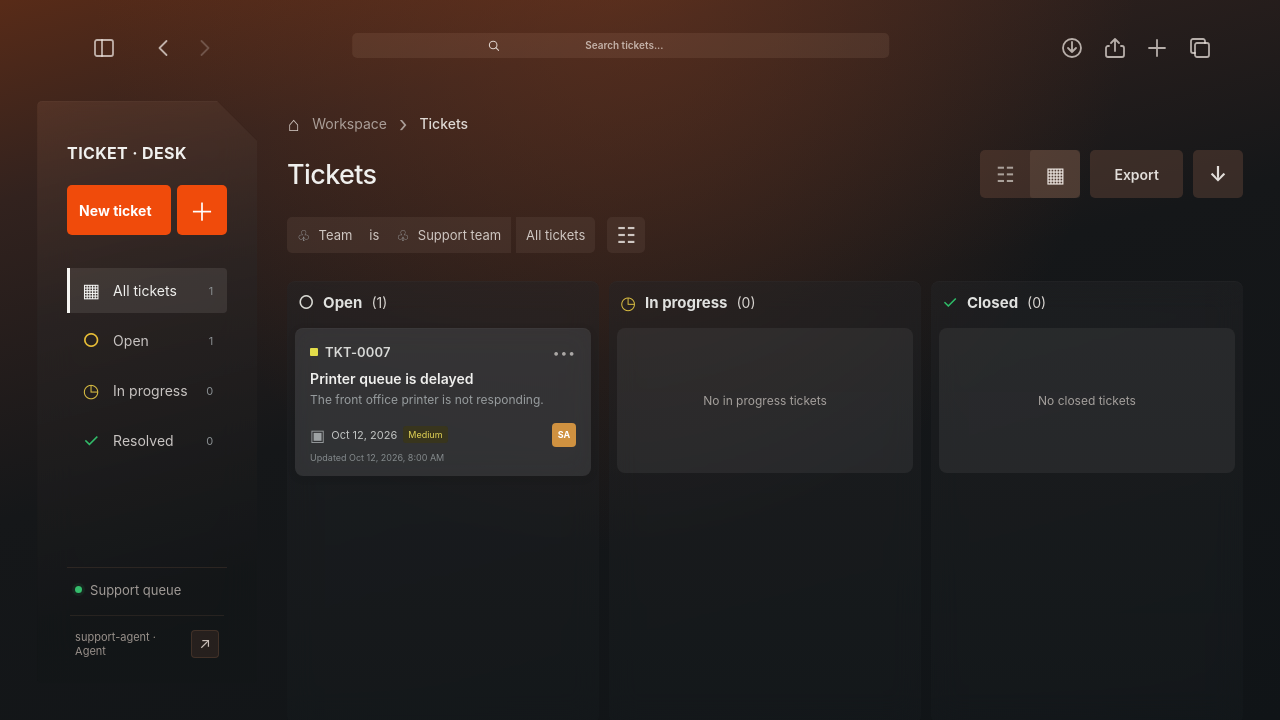
Test: Ticket Desk UI workflow › creates a ticket and signs out back to the login screen
The image size is (1280, 720).
expect the heading "Printer queue is delayed" is shown: met, box x1=310 y1=370 x2=474 y2=387
Click the button "New ticket" at (119, 210), box x1=67 y1=185 x2=171 y2=235
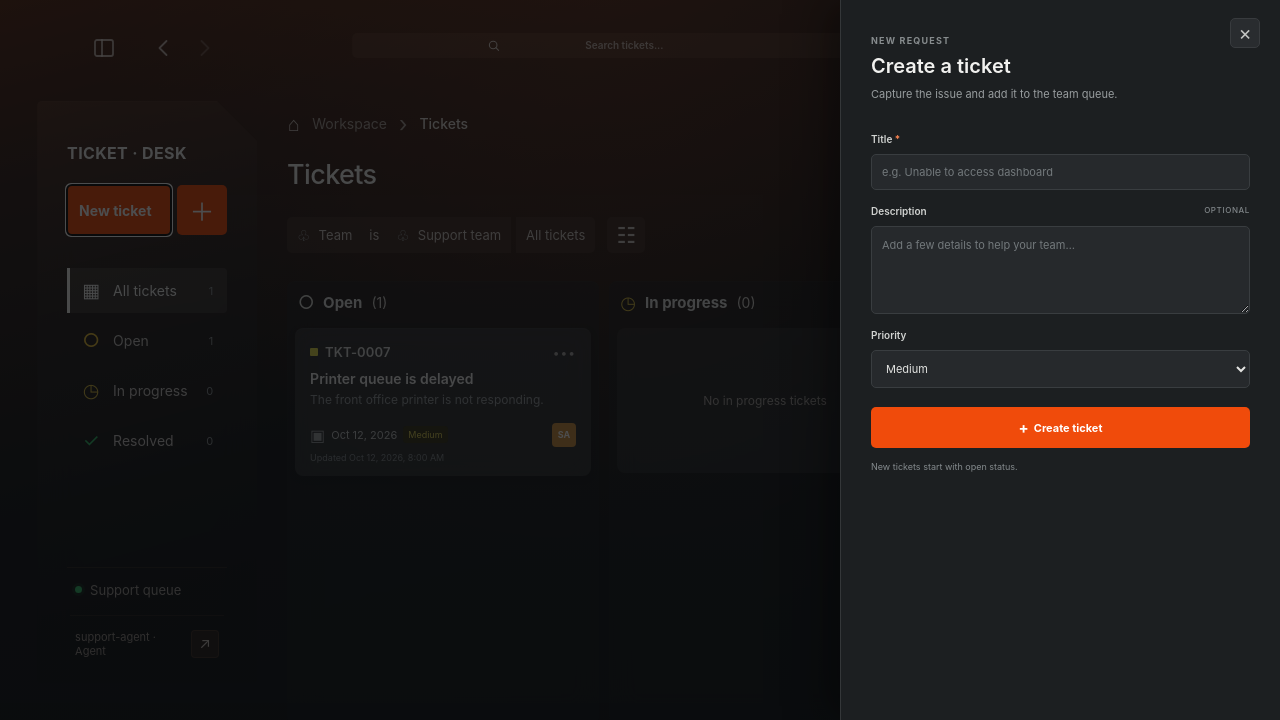
Type "Cannot reach billing dashboard" into the field labelled "Title *" at (1060, 172), box x1=871 y1=154 x2=1250 y2=190
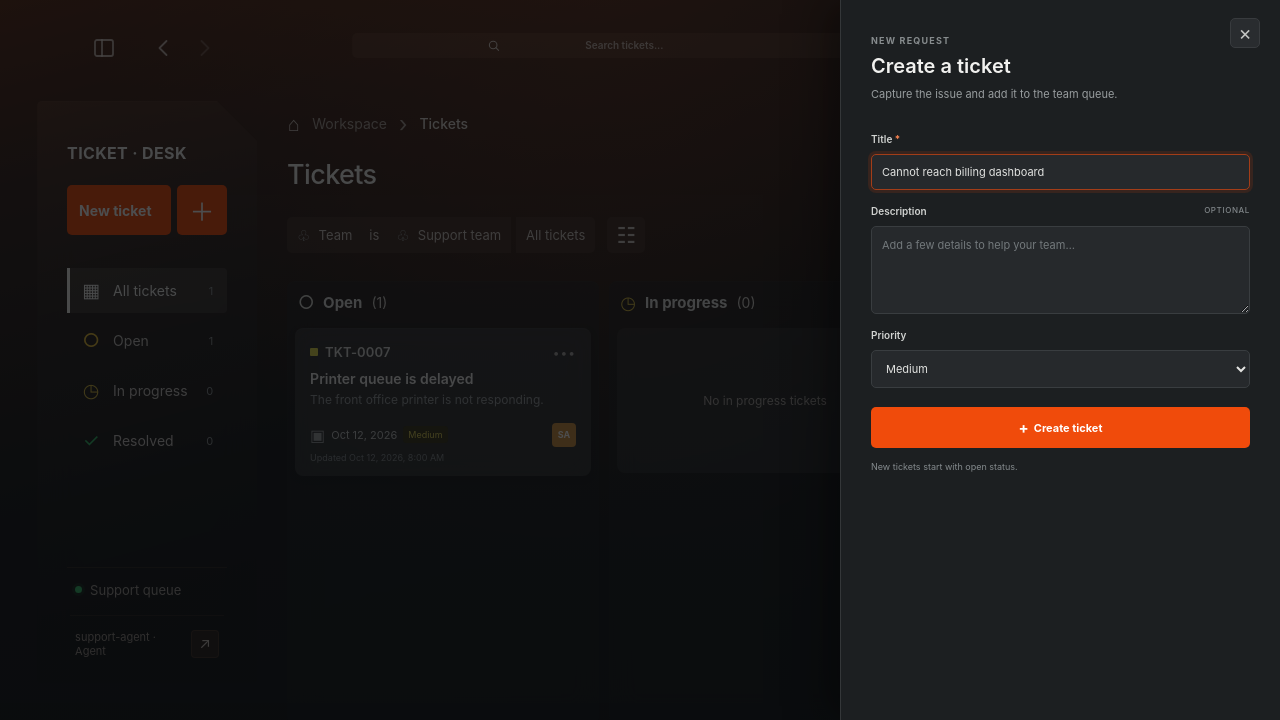
Type "The billing page returns an error." into the text box labelled "Description OPTIONAL" at (1060, 270), box x1=871 y1=226 x2=1250 y2=314
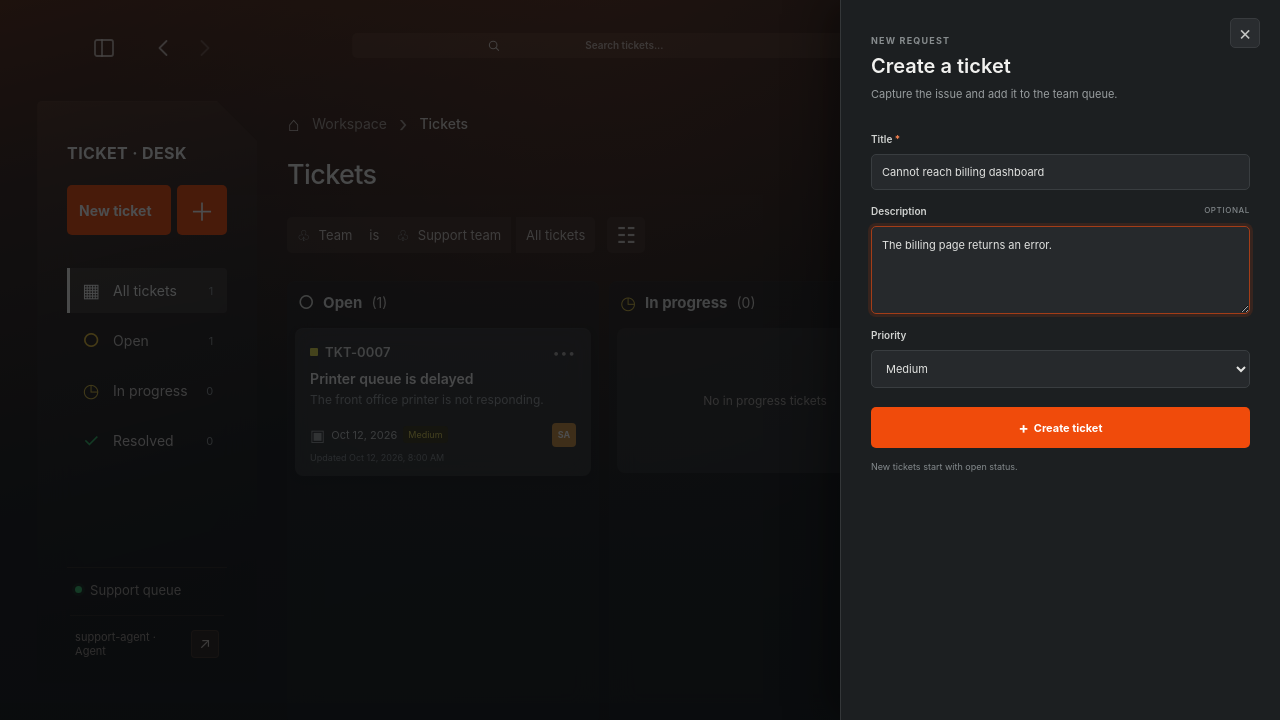
Click the button "+Create ticket" at (1060, 428), box x1=871 y1=407 x2=1250 y2=448
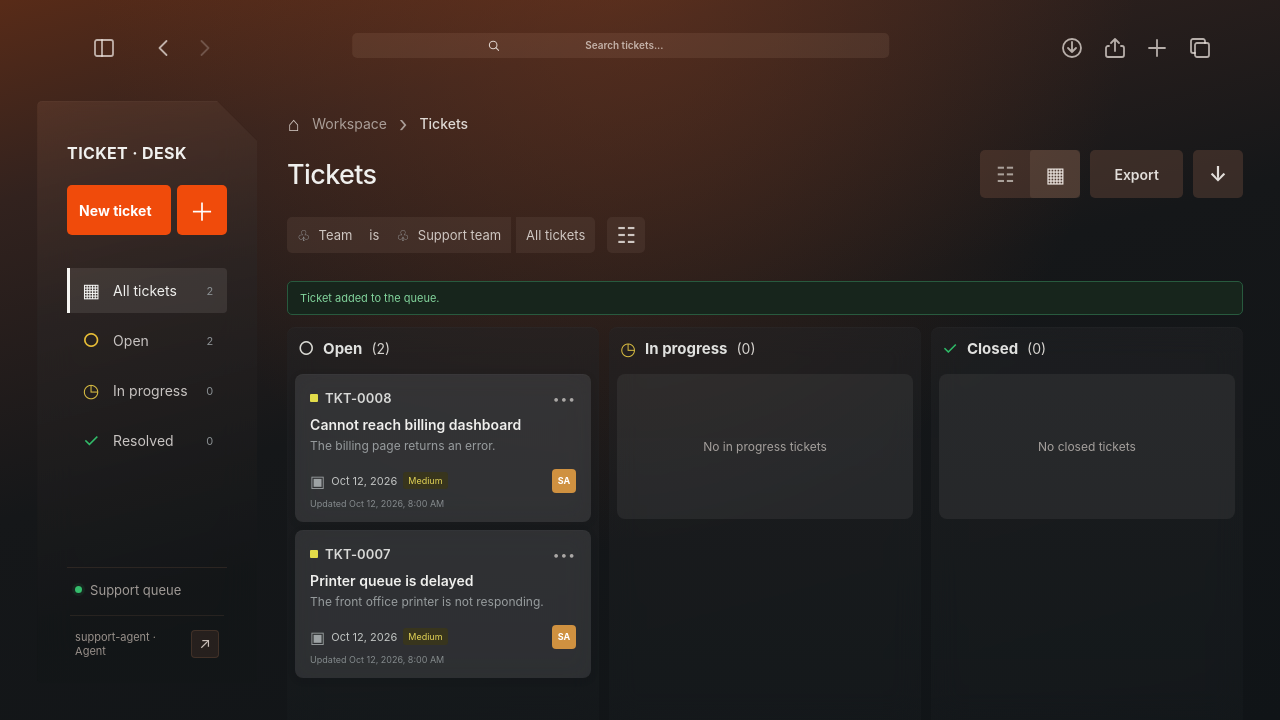
expect the text "Ticket added to the queue." is shown: met, box x1=287 y1=281 x2=1243 y2=315
Click the button named "Sign out" at (205, 644), box x1=191 y1=630 x2=219 y2=658
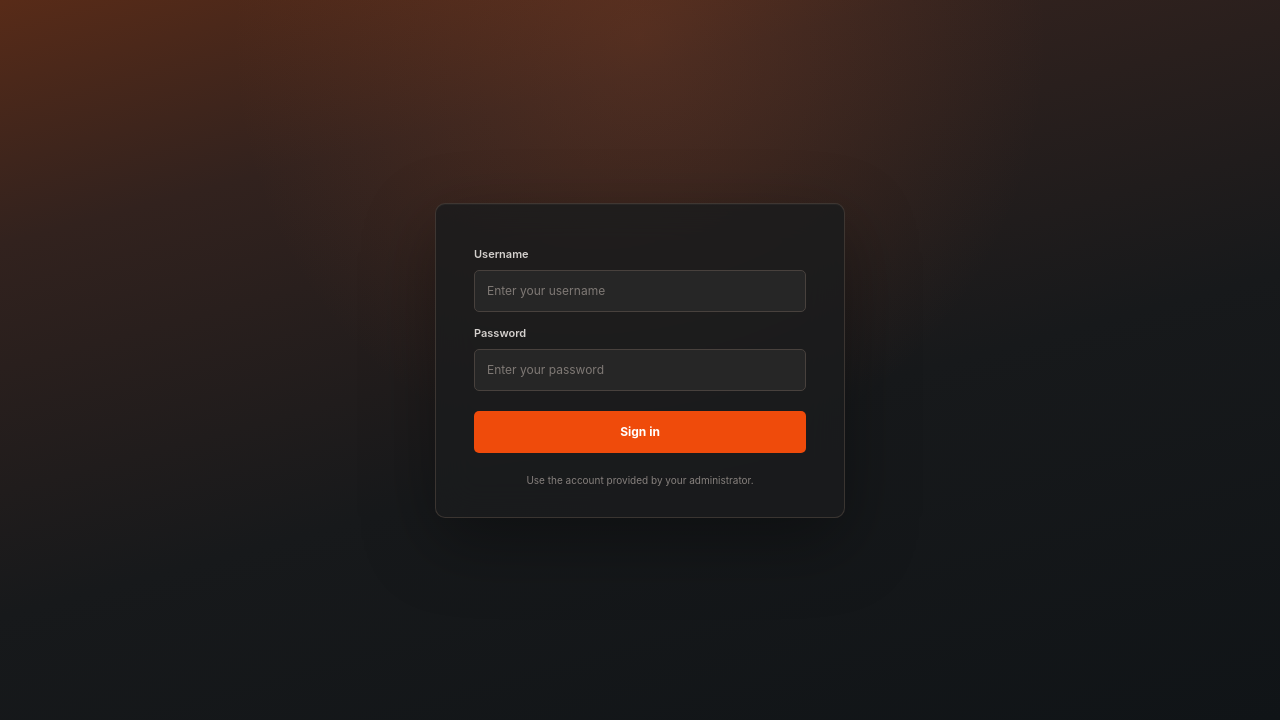
expect the field labelled "Username" is shown: met, box x1=474 y1=270 x2=806 y2=312
